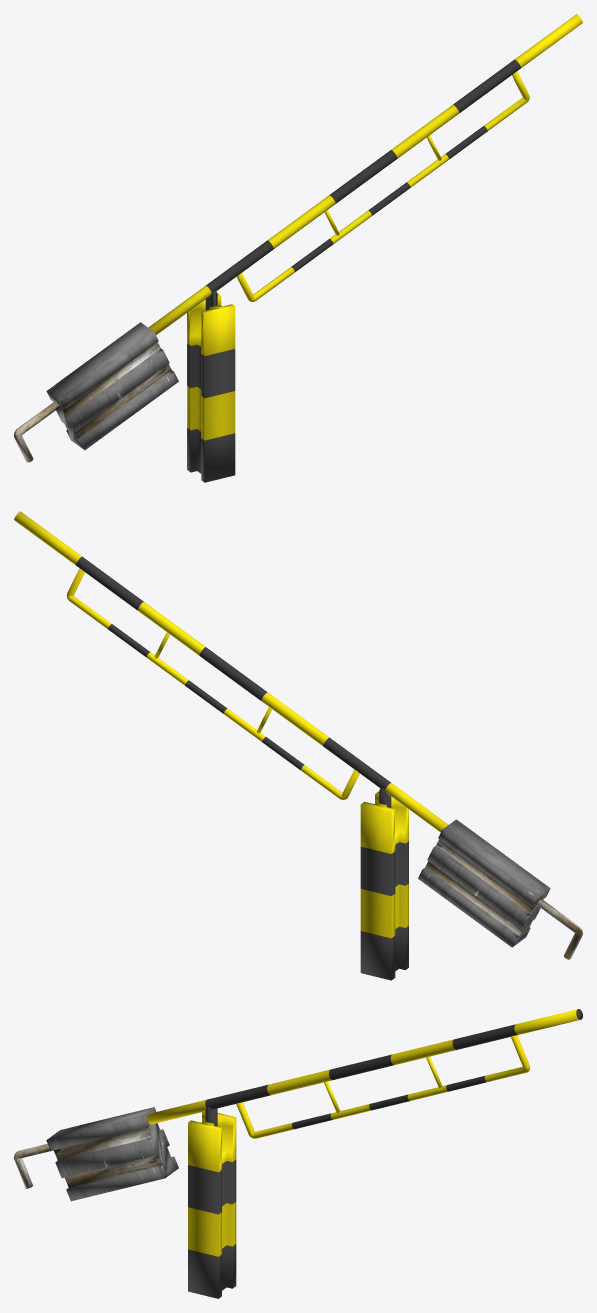
The model's file is Cancela 02 - 2.fbx.
3 views of the same model, one above another, from view 1: azimuth 30°, elevation 25°; view 2: azimuth 150°, elevation 25°; view 3: azimuth 330°, elevation 25° (orthographic).
Visible parts, largest first — view 1: Plano.228; view 2: Plano.228; view 3: Plano.228.
Boxes of the visible parts, <box> form: Plano.228: <box>14,14,582,482</box>; Plano.228: <box>14,511,582,980</box>; Plano.228: <box>14,1009,582,1298</box>.
Bounding box in the file's own units: 581 × 361 × 31.41.
Materials: 7 (5 with a texture image).
